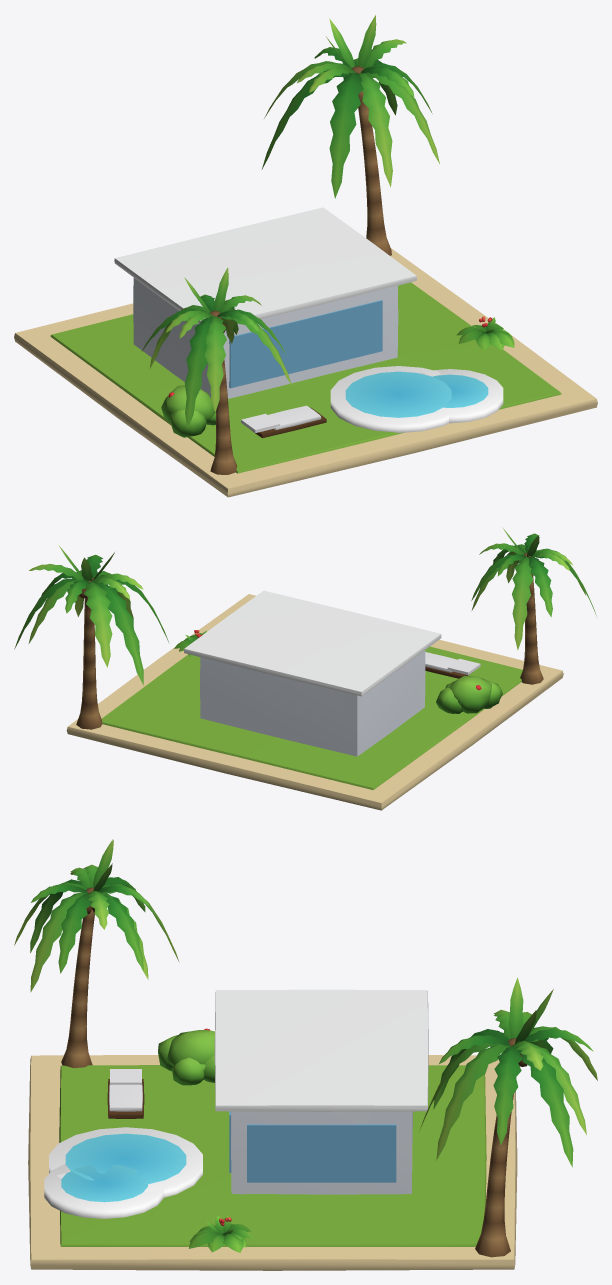
The model's file is LuxuryHotel_L1.obj.
3 views of the same model, one above another, from view 1: azimuth 30°, elevation 25°; view 2: azimuth 150°, elevation 25°; view 3: azimuth 270°, elevation 25° (orthographic). The views are drawn at different scales.
Parts seen in each view (by area): view 1: LuxuryHotel_L1; view 2: LuxuryHotel_L1; view 3: LuxuryHotel_L1.
Part boxes in pixels (x1,y1,x2,y2): LuxuryHotel_L1: (14,15,597,497); LuxuryHotel_L1: (14,527,596,810); LuxuryHotel_L1: (14,839,597,1270).
Bounding box in the file's own units: 4.85 × 2.38 × 4.77.
Materials: 1 (1 with a texture image).
